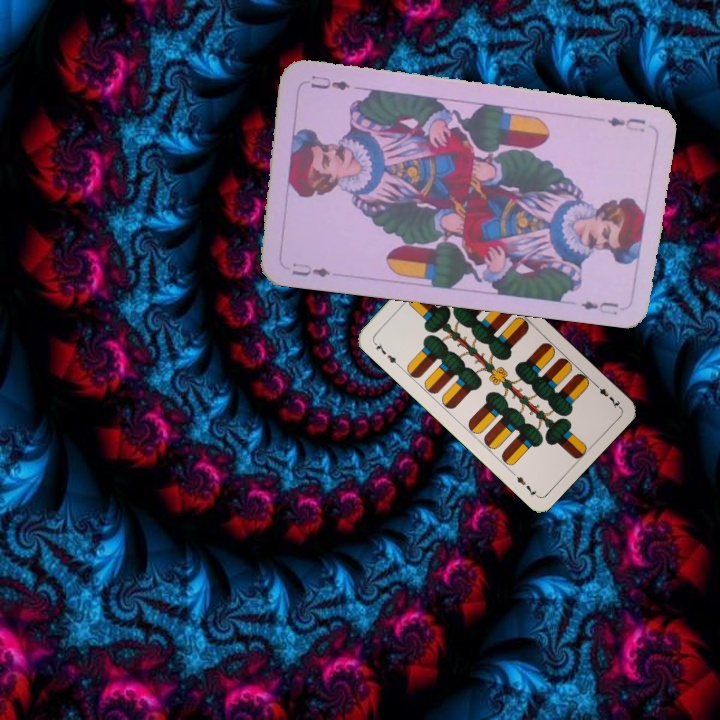E7: (369, 337, 402, 369), (590, 379, 623, 411)
EU: (603, 113, 648, 135), (287, 259, 333, 280)
